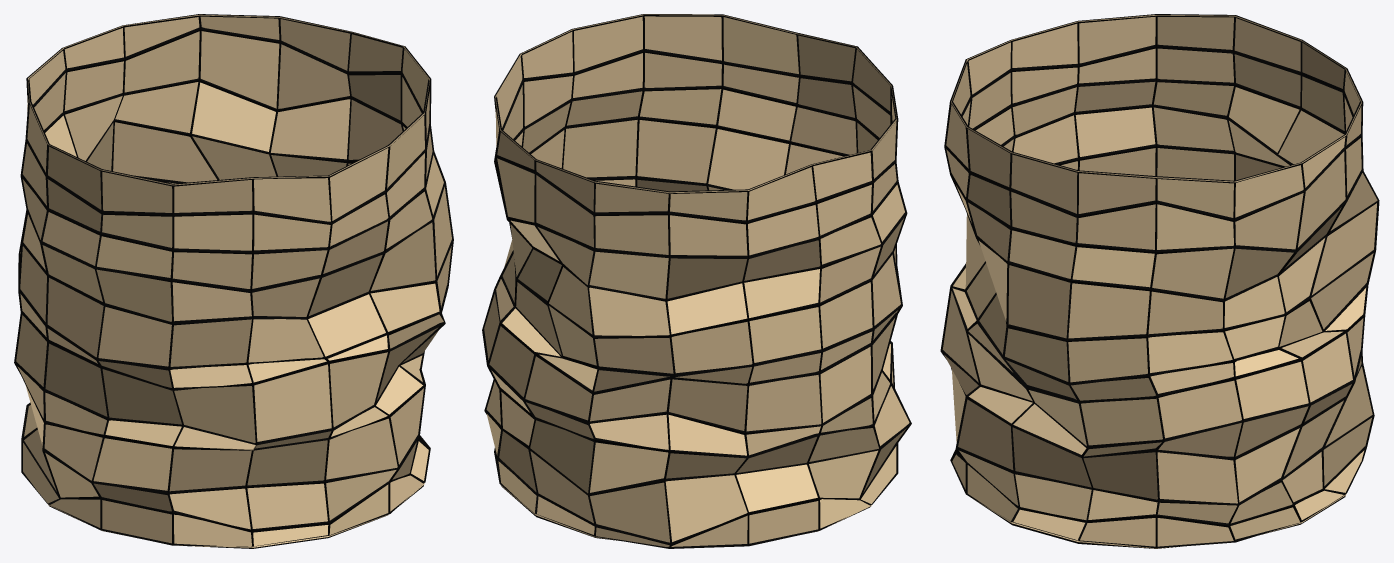
3 views of the same model, side by side, from view 1: azimuth 30°, elevation 25°; view 2: azimuth 150°, elevation 25°; view 3: azimuth 270°, elevation 25° (orthographic).
Visible parts, largest first — view 1: Cylinder; view 2: Cylinder; view 3: Cylinder.
Part boxes in pixels (x1=…): Cylinder: x1=14, y1=14, x2=453, y2=548; Cylinder: x1=482, y1=14, x2=911, y2=548; Cylinder: x1=940, y1=14, x2=1379, y2=548.
Bounding box in the file's own units: 2.09 × 2.01 × 2.14.
